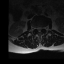CCS_normal: (38, 25, 40, 33)
LFS_stenosis: (42, 25, 44, 30)
LLS_normal: (40, 25, 42, 31)
RFS_stenosis: (34, 25, 36, 31)
RLS_normal: (36, 25, 38, 31)
